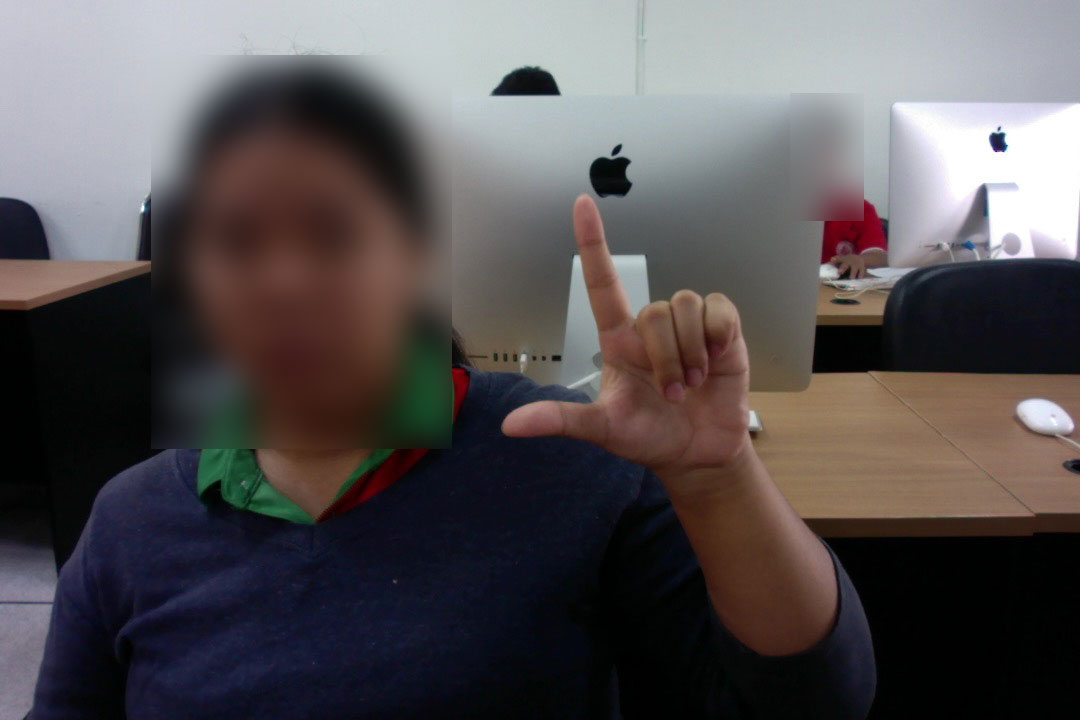lor: (494, 188, 785, 475)
